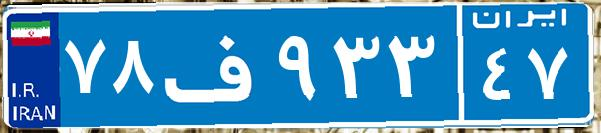3: (385, 28, 445, 110), (330, 28, 385, 110)
4: (475, 38, 525, 113)
7: (57, 26, 110, 107), (525, 38, 570, 115)
8: (110, 28, 158, 105)
9: (273, 28, 330, 110)
ف: (158, 15, 273, 115)
